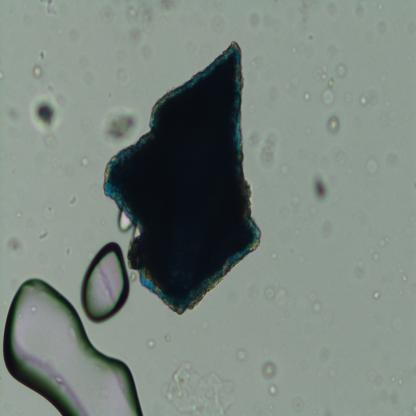Air bubble: (0, 274, 143, 415), (80, 241, 132, 324)
Background material: (160, 356, 238, 413), (124, 1, 174, 47), (102, 103, 142, 150), (30, 91, 64, 133), (256, 282, 294, 310), (260, 130, 281, 171), (320, 64, 339, 108), (310, 167, 328, 204), (260, 358, 278, 380), (299, 0, 315, 23), (308, 291, 324, 314), (354, 260, 372, 280), (9, 231, 24, 255), (247, 10, 264, 31), (328, 116, 344, 137), (39, 0, 59, 16), (213, 14, 227, 35), (100, 3, 114, 23), (36, 224, 51, 242), (290, 397, 304, 413), (336, 63, 349, 80), (234, 349, 249, 363), (30, 65, 43, 79), (376, 19, 388, 34), (368, 156, 378, 174), (378, 233, 390, 248), (66, 196, 80, 207), (369, 247, 379, 262), (268, 382, 278, 396), (359, 95, 369, 109), (80, 155, 91, 167), (373, 289, 382, 303), (146, 338, 156, 350), (302, 88, 310, 101), (396, 264, 404, 274), (402, 274, 408, 282), (398, 378, 404, 386)
Fragment: (103, 32, 263, 316)
